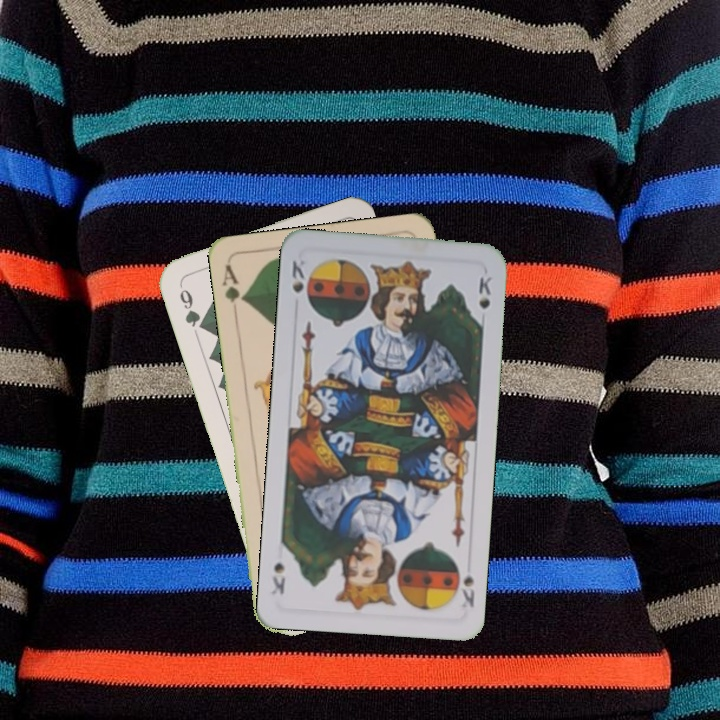G9: (175, 278, 209, 333)
GA: (218, 261, 248, 320)
SK: (450, 558, 477, 615), (288, 256, 313, 306)
